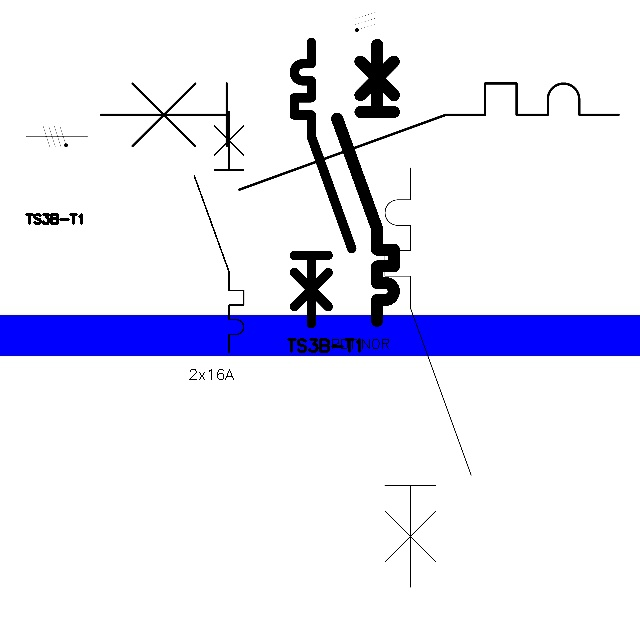interruptor_termomagnetico: (87, 70, 632, 203), (374, 157, 482, 598), (287, 35, 359, 331), (330, 37, 401, 327), (188, 105, 250, 359)
